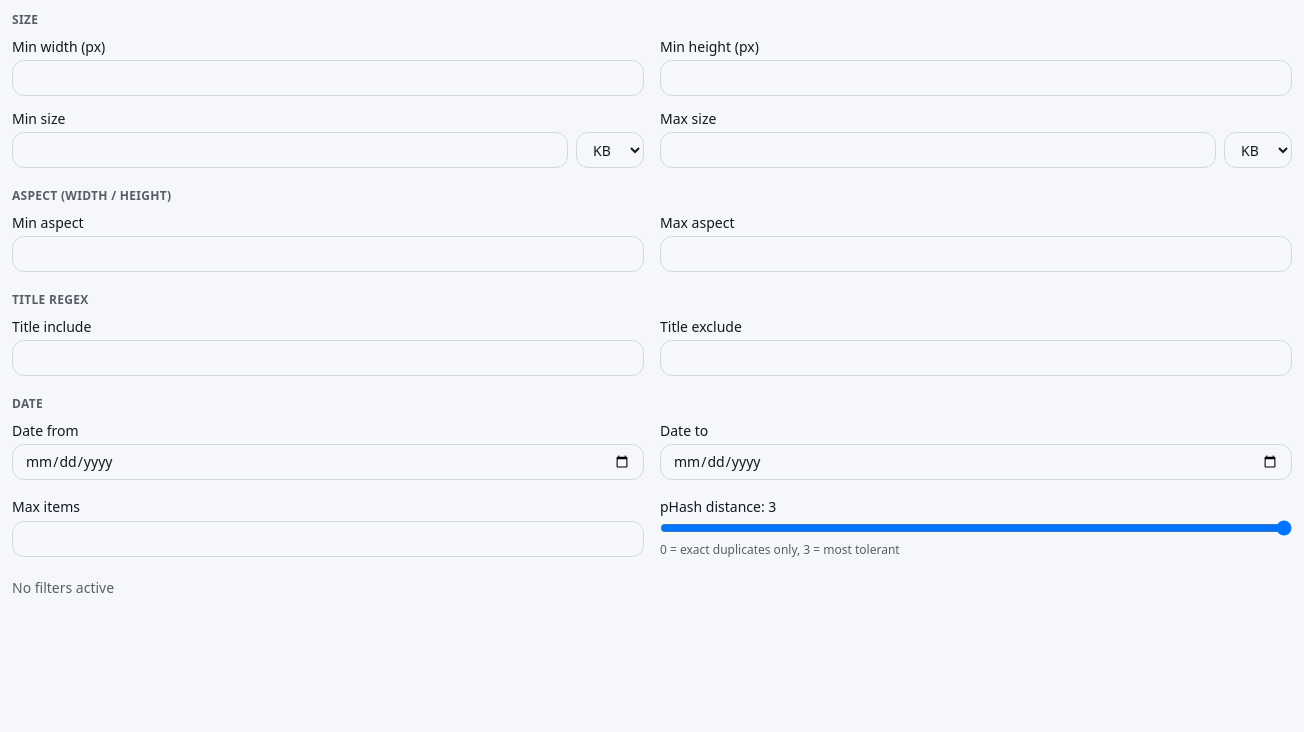
Test: FilterBuilder › invalid regex shows error
Type "(" into the field labelled "Title include" at x=328, y=358, box [12, 340, 644, 376]
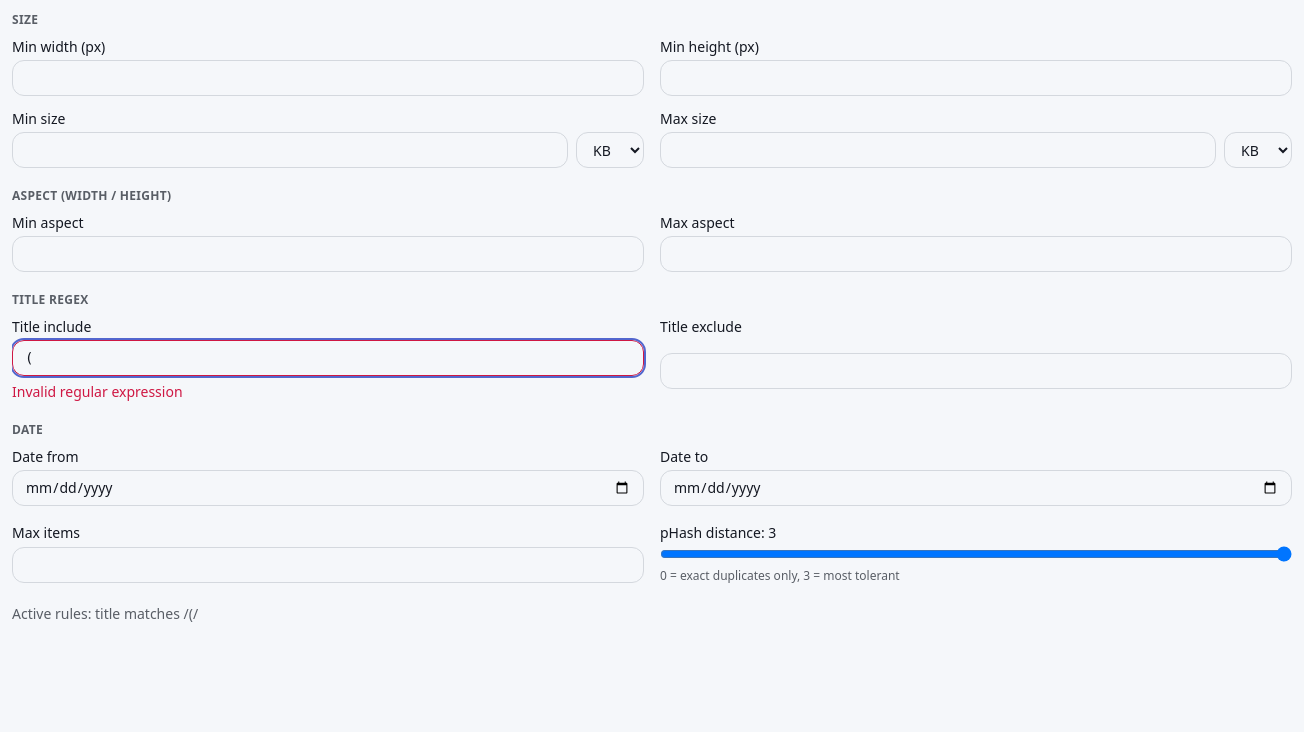
expect the text "Invalid regular expression" is shown: met, box [12, 382, 183, 401]
